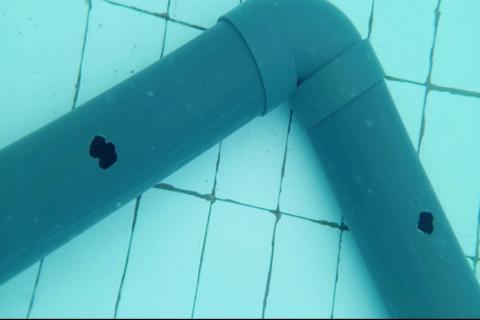kebocoran: (88, 133, 119, 171), (417, 209, 435, 235)
